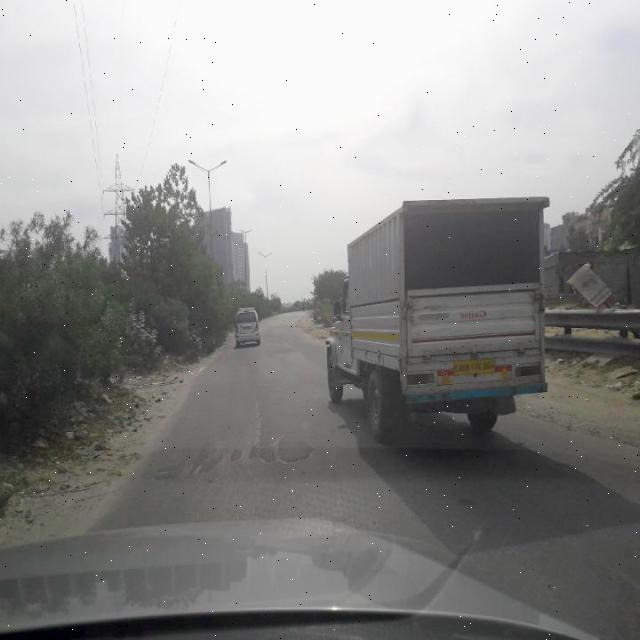D00: (246, 385, 265, 449)
